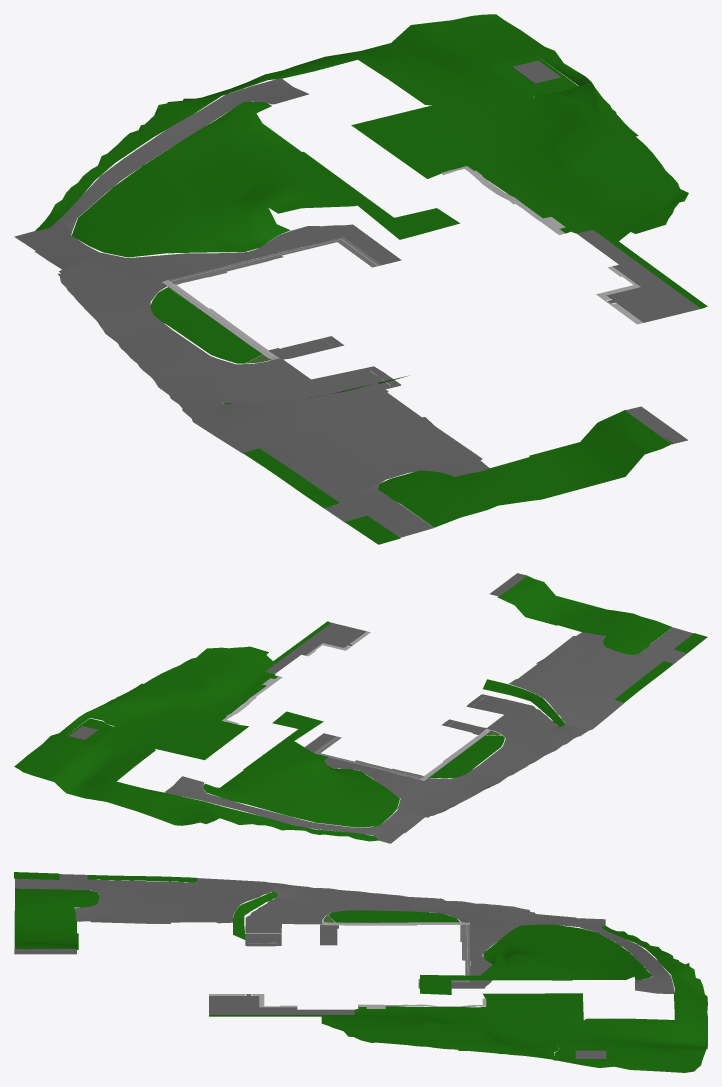
The model's file is Outside_Nav.fbx.
3 renders of one model, top to bottom at view 1: azimuth 30°, elevation 25°; view 2: azimuth 150°, elevation 25°; view 3: azimuth 270°, elevation 25°, orthographic. The views are drawn at different scales.
Parts seen in each view (by area): view 1: cesta, cesta.002, cesta.001, cesta.1275, cesta.1953, cesta.005, cesta.1416, cesta.1030, cesta.1276, cesta.1944, cesta.1065, cesta.1064; view 2: cesta.002, cesta, cesta.001, cesta.1275, cesta.1953, cesta.005, cesta.1245, cesta.1030, cesta.1416, cesta.1276, cesta.1944; view 3: cesta.002, cesta, cesta.001, cesta.1275, cesta.1953, cesta.005, cesta.1416, cesta.1245, cesta.1030, cesta.1276, cesta.1065, cesta.1944 (+3 smaller).
Part boxes in pixels (x1,y1,x2,y2): cesta: (14,78,489,537); cesta.002: (35,14,707,308); cesta.001: (72,101,460,257); cesta.1275: (378,409,672,527); cesta.1953: (577,230,700,322); cesta.005: (150,287,262,363); cesta.1416: (487,54,578,98); cesta.1030: (246,166,643,363); cesta.1276: (243,448,339,508); cesta.1944: (168,237,381,284); cesta.1065: (162,280,280,359); cesta.1064: (268,336,344,359); cesta.002: (14,621,378,841); cesta: (164,627,693,843); cesta.001: (203,711,399,827); cesta.1275: (497,575,672,654); cesta.1953: (265,623,366,673); cesta.005: (429,735,504,778); cesta.1245: (483,679,565,726); cesta.1030: (222,631,501,735); cesta.1416: (62,718,118,746); cesta.1276: (614,661,673,702); cesta.1944: (313,736,423,779); cesta.002: (209,925,707,1072); cesta: (15,874,674,993); cesta.001: (420,924,652,994); cesta.1275: (14,888,99,949); cesta.1953: (209,994,354,1014); cesta.005: (328,910,459,922); cesta.1416: (554,1044,615,1060); cesta.1245: (233,892,277,939); cesta.1030: (209,915,486,1008); cesta.1276: (87,875,196,882); cesta.1065: (322,922,469,925); cesta.1944: (418,924,470,982).
Size of the model in its own units: 9534 by 909 by 13644.
